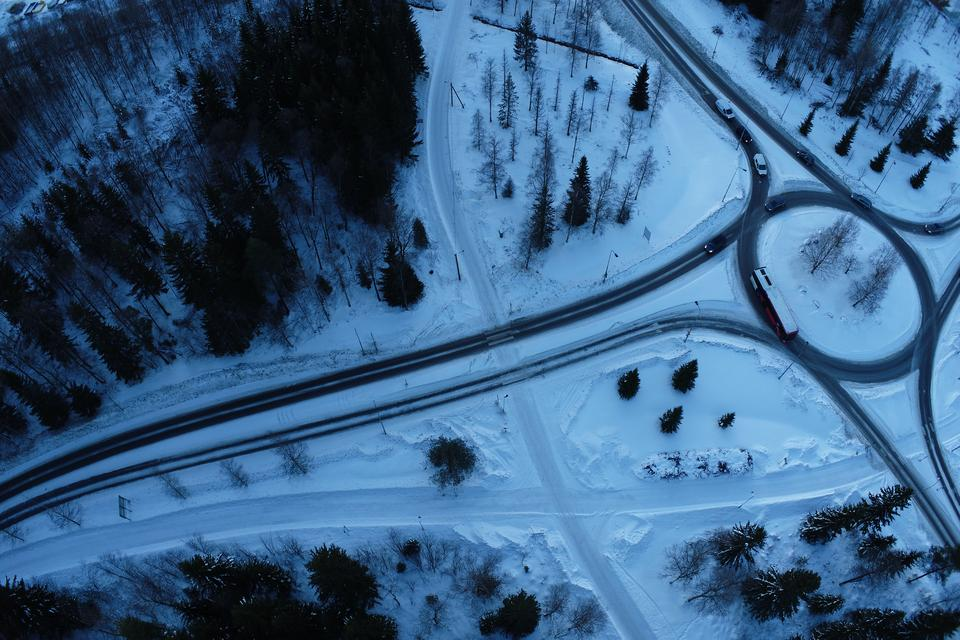intersection: (840, 409, 960, 490), (472, 309, 544, 409)
roundabout: (712, 152, 960, 392)
